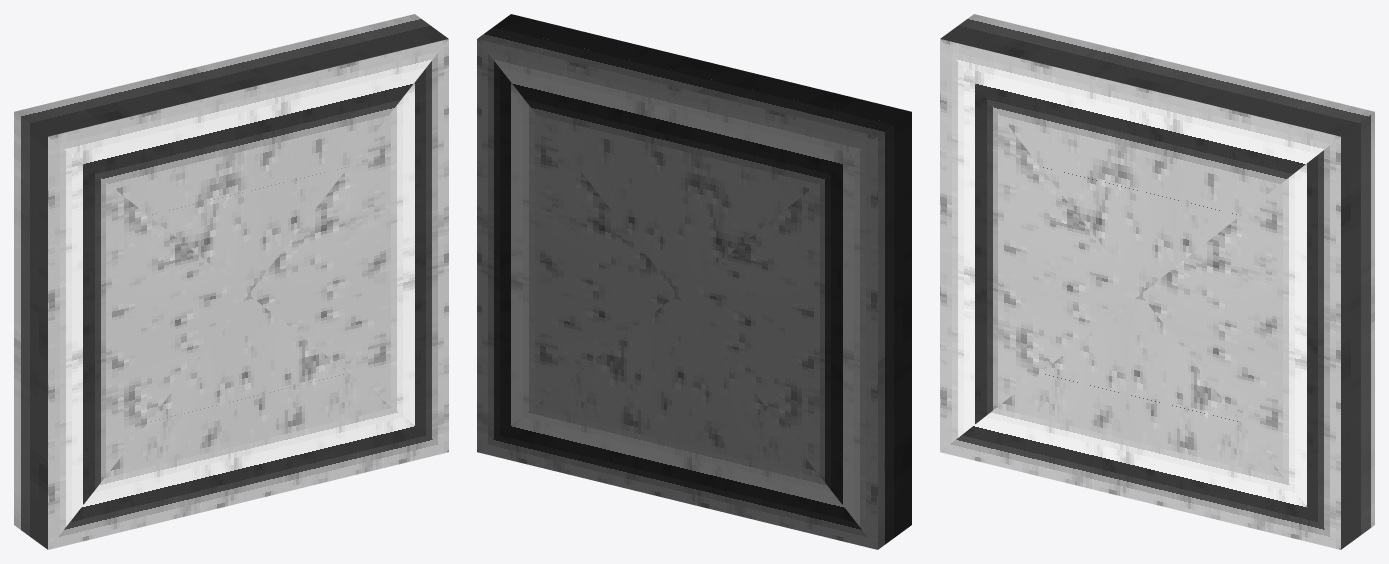
File: PhatchdoorZ.obj
The picture shows the model from 3 angles, left to right: view 1: azimuth 30°, elevation 25°; view 2: azimuth 150°, elevation 25°; view 3: azimuth 330°, elevation 25°; orthographic projection.
Size of the model in its own units: 272 by 268 by 40.
Materials: 1 (1 with a texture image).
